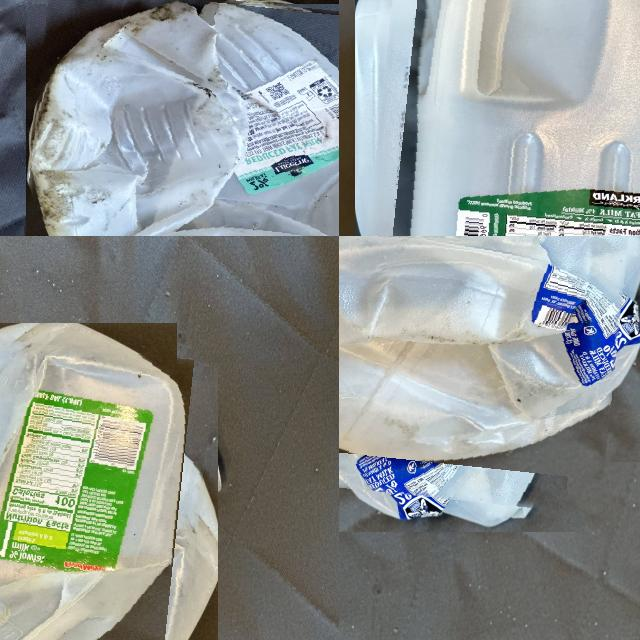milk-jug: (339, 236, 629, 506), (19, 0, 339, 236), (370, 0, 640, 236), (0, 334, 206, 640)
